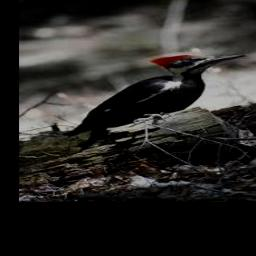Woodpecker: (64, 53, 245, 147)
